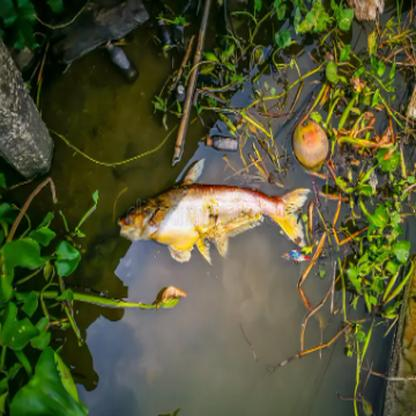deceased fish: (112, 166, 313, 262)
